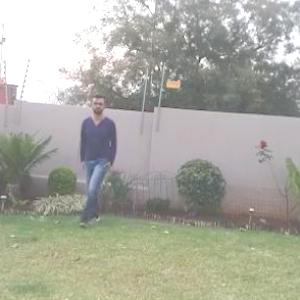follow: (74, 90, 112, 226)
